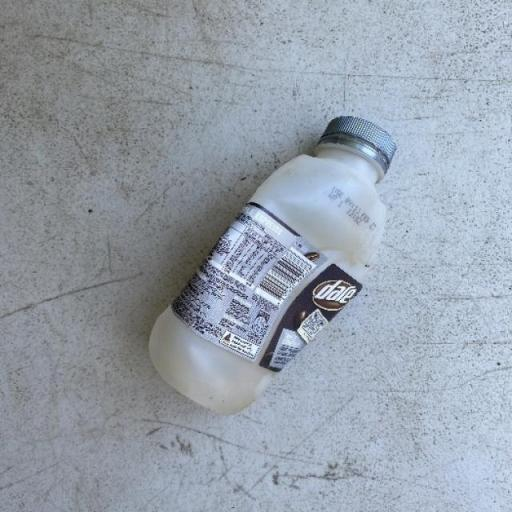plastic: (146, 113, 397, 416)
